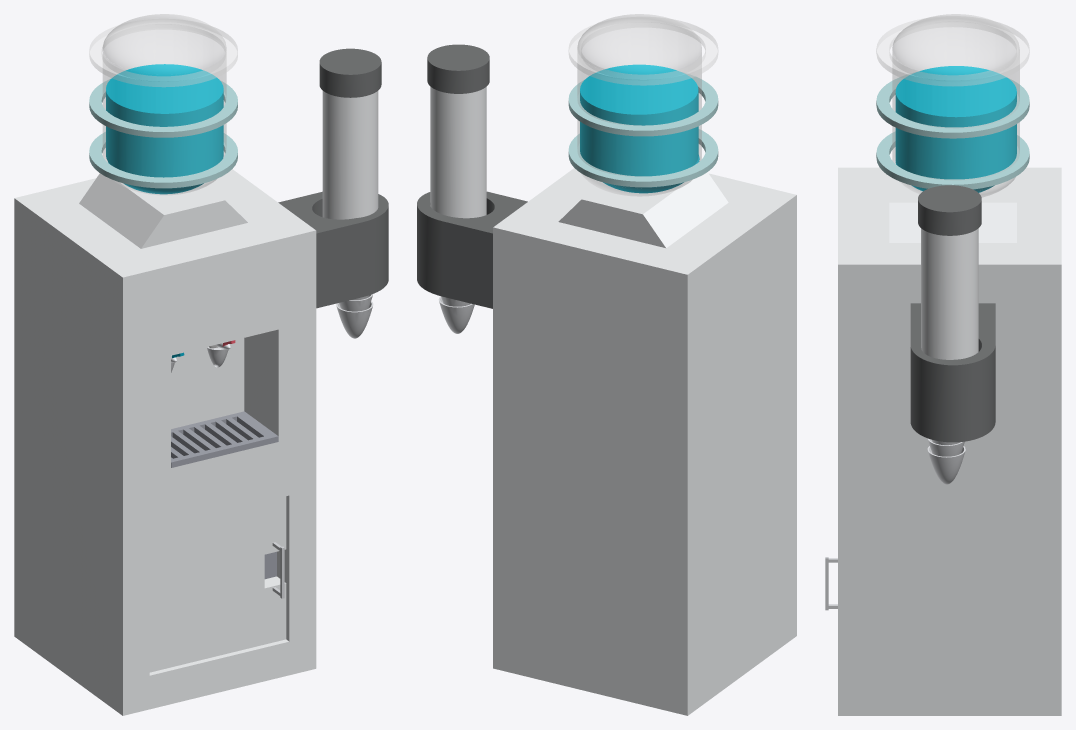
File: water_dispenser.glb
3 views of the same model, side by side, from view 1: azimuth 30°, elevation 25°; view 2: azimuth 150°, elevation 25°; view 3: azimuth 270°, elevation 25° (orthographic). The views are drawn at different scales.
Visible parts, largest first — view 1: Object_2, Object_4; view 2: Object_2, Object_4; view 3: Object_2, Object_4.
Boxes of the visible parts, left/top/right/bottom form: Object_2: left=14, top=48, right=388, bottom=715; Object_4: left=89, top=14, right=237, bottom=194; Object_2: left=417, top=44, right=796, bottom=715; Object_4: left=569, top=14, right=717, bottom=196; Object_2: left=825, top=66, right=1061, bottom=715; Object_4: left=876, top=14, right=1029, bottom=197.
Bounding box in the file's own units: 1.44 × 2.72 × 0.9056.
Materials: 2 (2 with a texture image).
